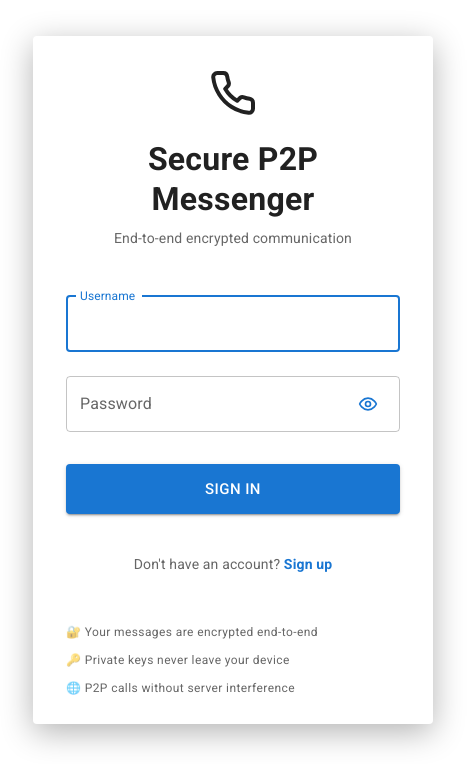
Scenario: LoginForm › shows validation error for short password
The image size is (467, 764).
Type "testuser" into the field labelled "Username". click: point(233, 324)
box: [66,296,400,352]
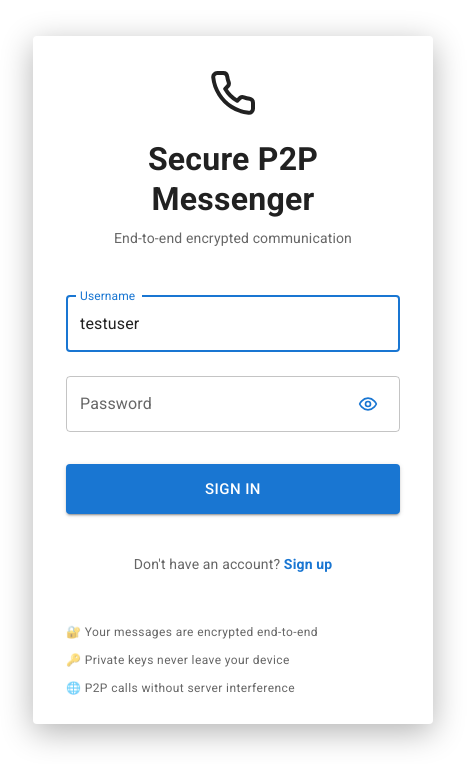
Type "123" into the password field labelled "Password". click: point(208, 404)
box: [66,376,350,432]
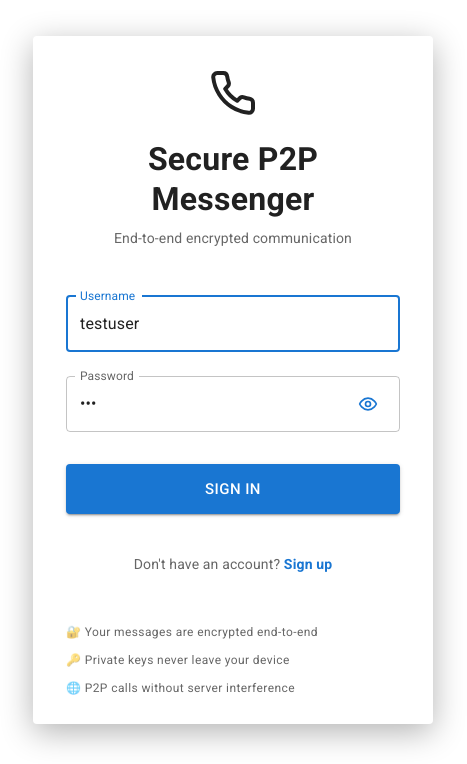
Click the button "Sign In". click: point(233, 489)
box: [66,464,400,514]
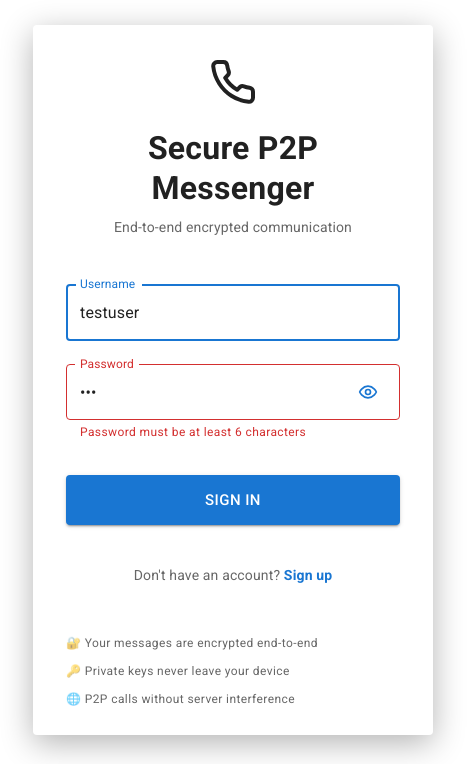
Now the text "Password must be at least 6 characters" is shown, box [80,425,306,439]
